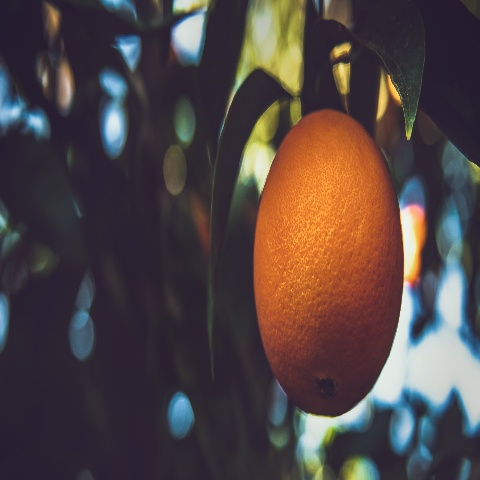orange: (238, 104, 435, 428)
